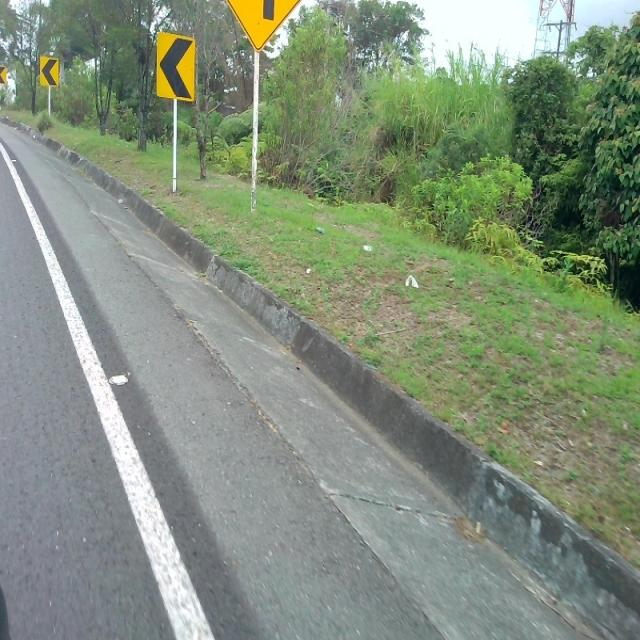DITCH: (2, 1, 638, 638), (1, 115, 638, 638), (1, 132, 638, 638)
